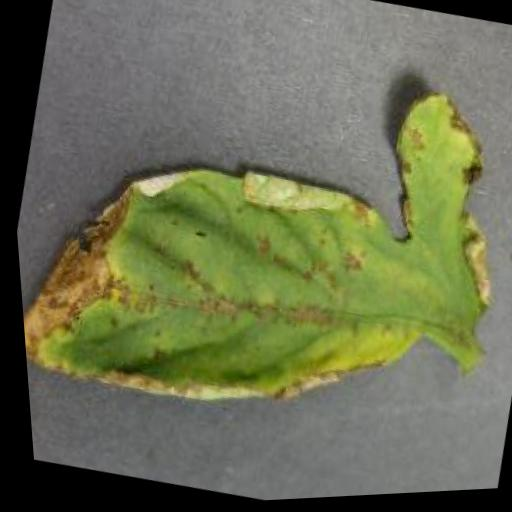Bacterial Spot: (1, 0, 512, 475)
